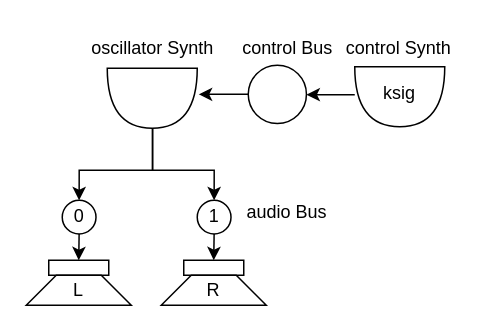
Some shapes in this 492 by 332 pixel diagram are drawn without their labels. Each missing label, with the centre of its shape:
"sch" goes at (x=151, y=97).
"~ksig" goes at (x=276, y=93).
